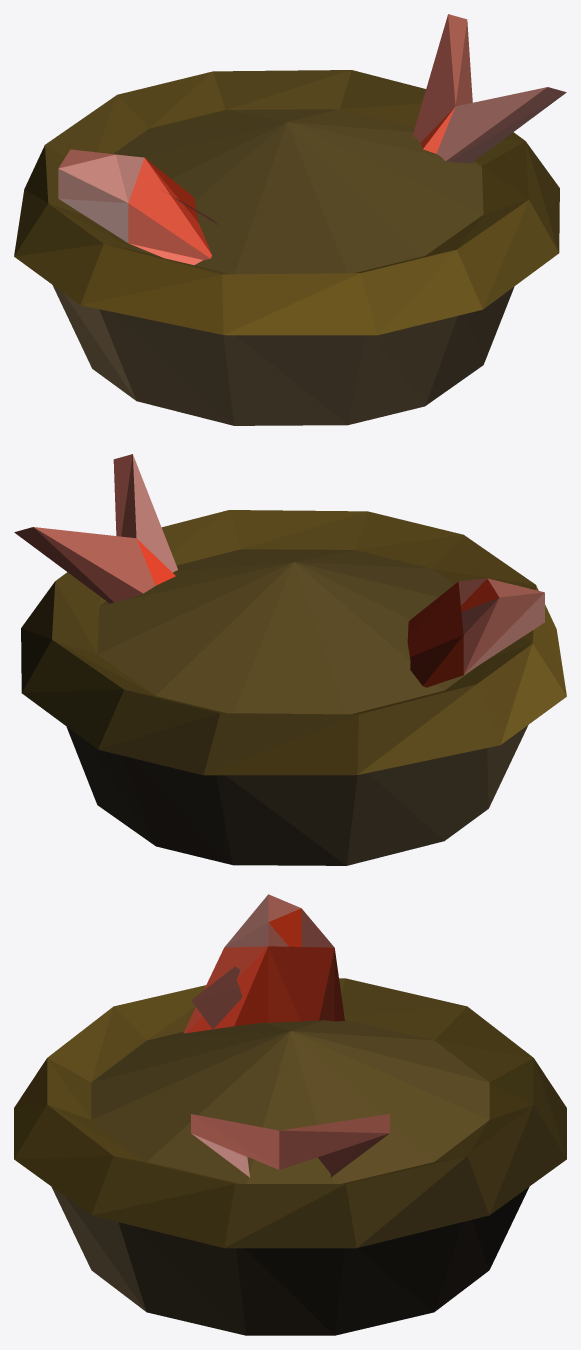
Rendered from fish-pie.obj.
3 views of the same model, one above another, from view 1: azimuth 30°, elevation 25°; view 2: azimuth 150°, elevation 25°; view 3: azimuth 270°, elevation 25° (orthographic).
Visible parts, largest first — view 1: Item Admiral pie 2026-09-13_16-42-01; view 2: Item Admiral pie 2026-09-13_16-42-01; view 3: Item Admiral pie 2026-09-13_16-42-01.
Boxes of the visible parts, box(x1,y1,x2,y2) form: Item Admiral pie 2026-09-13_16-42-01: box(14, 14, 566, 425); Item Admiral pie 2026-09-13_16-42-01: box(14, 454, 566, 865); Item Admiral pie 2026-09-13_16-42-01: box(14, 894, 566, 1335).
Bounding box in the file's own units: 50 × 24 × 50.
